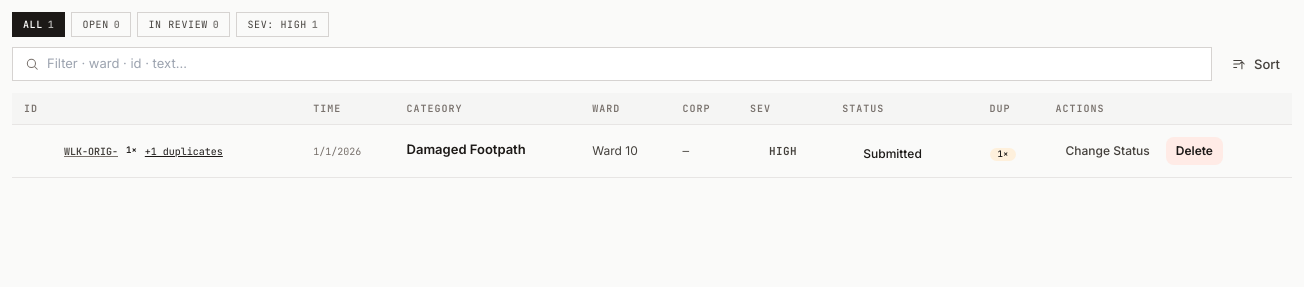
Test: ReportsTable sub-table: structure › renders data-testid='dupe-subtable' on the inner table element after expand
The image size is (1304, 287).
Click the button with test id "expand-duplicates-btn" at (184, 151), box [145,144,223,158]
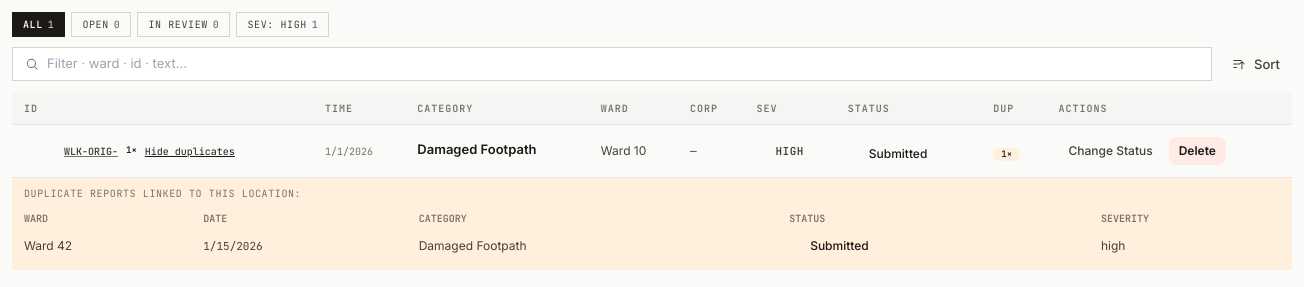
Result: the table with test id "dupe-subtable" is shown at [24,207,1280,262]
